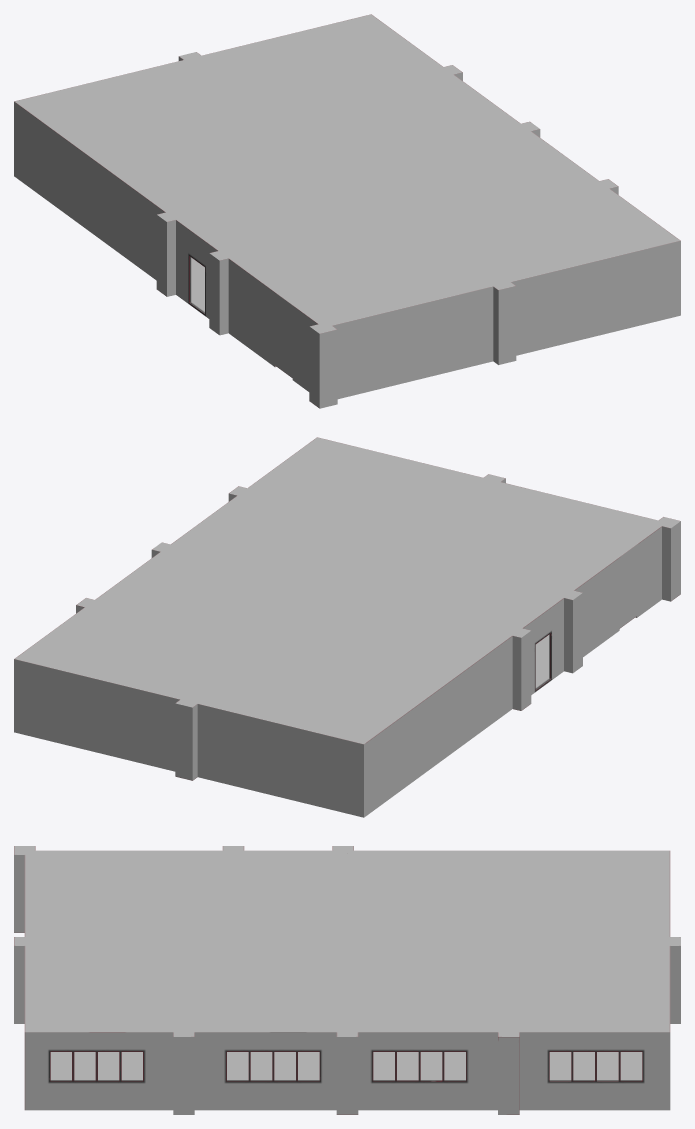
Rendered from ClassRoom With Big Library - Fixed_541.fbx.
3 views of the same model, one above another, from view 1: azimuth 30°, elevation 25°; view 2: azimuth 150°, elevation 25°; view 3: azimuth 270°, elevation 25° (orthographic). The views are drawn at different scales.
Parts seen in each view (by area): view 1: ClassRoom With Big Library - Fixed_541.001; view 2: ClassRoom With Big Library - Fixed_541.001; view 3: ClassRoom With Big Library - Fixed_541.001.
Boxes of the visible parts, x1,y1,x2,y2 form: ClassRoom With Big Library - Fixed_541.001: (14,14,680,408); ClassRoom With Big Library - Fixed_541.001: (14,437,680,817); ClassRoom With Big Library - Fixed_541.001: (14,846,680,1114).
Bounding box in the file's own units: 21 × 4 × 31.
Materials: 1 (1 with a texture image).
